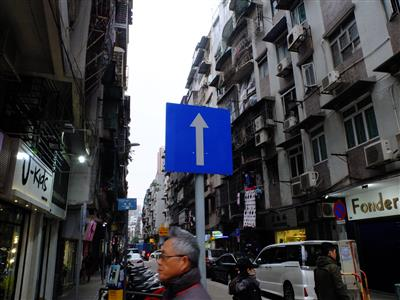oneway: (157, 95, 237, 181)
